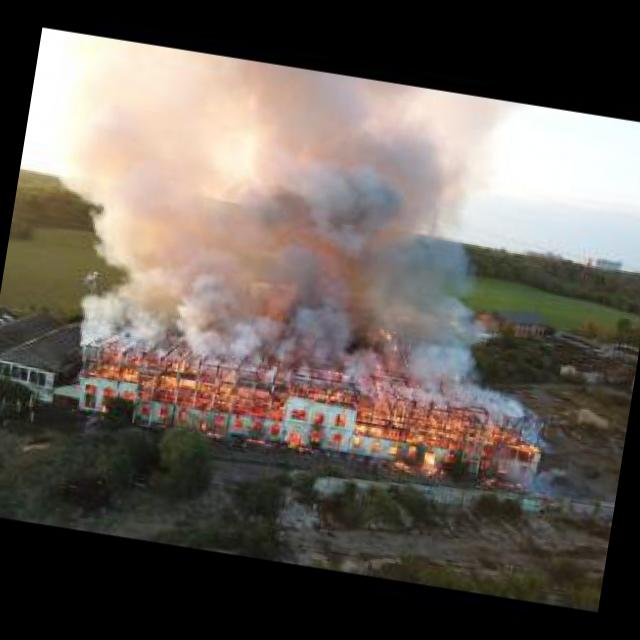fire: (72, 350, 546, 492)
smoke: (68, 68, 520, 409)
